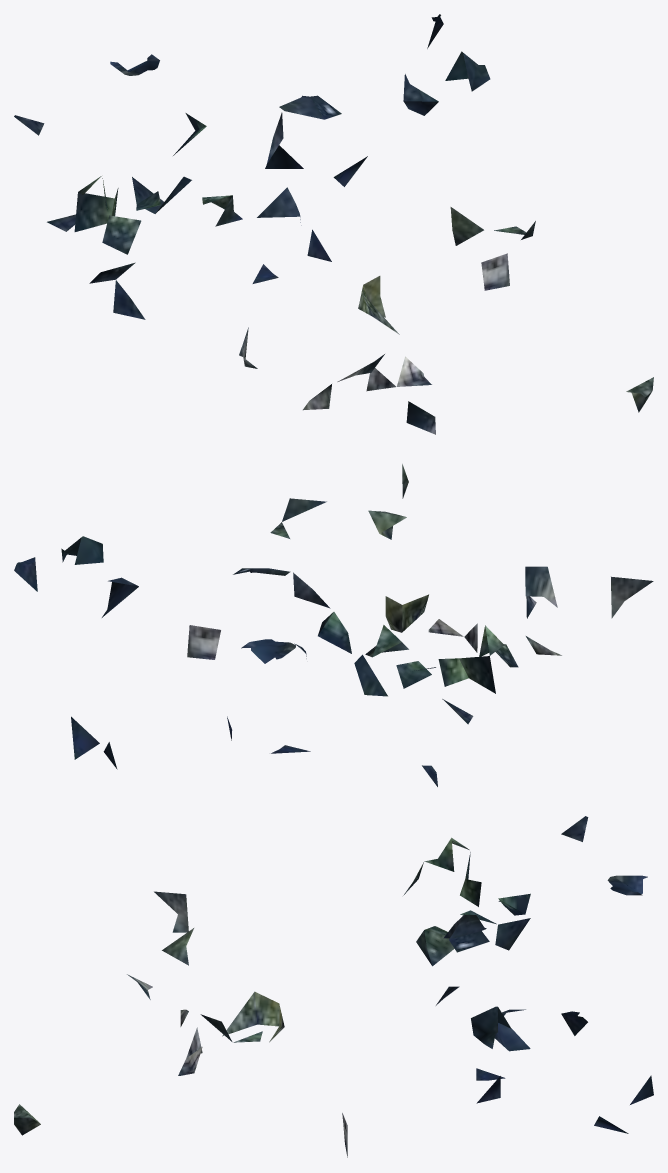
The picture shows the model from 3 angles, top to bottom: view 1: azimuth 30°, elevation 25°; view 2: azimuth 150°, elevation 25°; view 3: azimuth 270°, elevation 25°; orthographic projection. The views are drawn at different scales.
Visible parts, largest first — view 1: 30436272704370404611_1; view 2: 30436272704370404611_1; view 3: 30436272704370404611_1.
Boxes of the visible parts, x1,y1,x2,y2 form: 30436272704370404611_1: (14,14,653,434); 30436272704370404611_1: (14,464,653,786); 30436272704370404611_1: (14,816,653,1157).
Bounding box in the file's own units: 26.85 × 10.33 × 36.1.
1 material, 1 textured.
